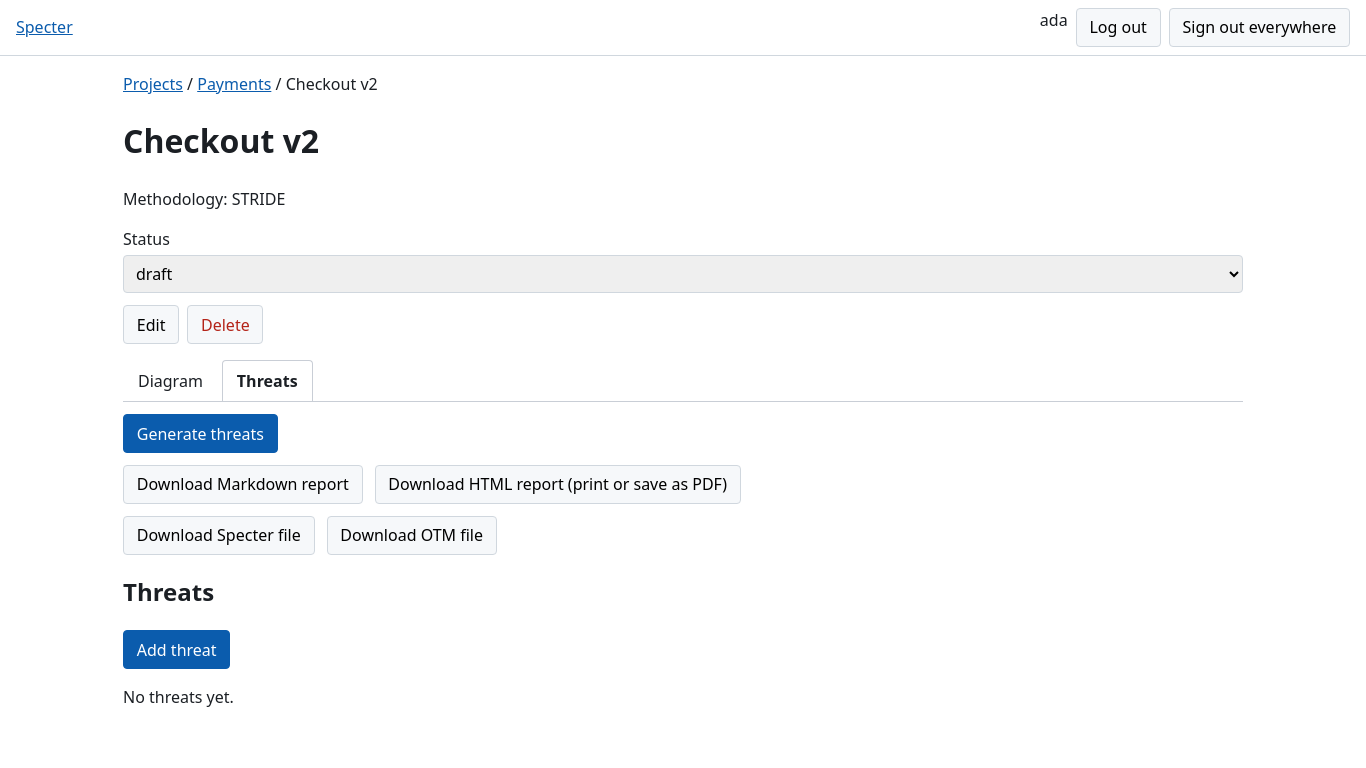
Scenario: the threat model page has two tabs (FR-001, FR-001b) › switches between the tabs through their links
Click the link "Diagram": click(170, 381) [138,370,203,392]
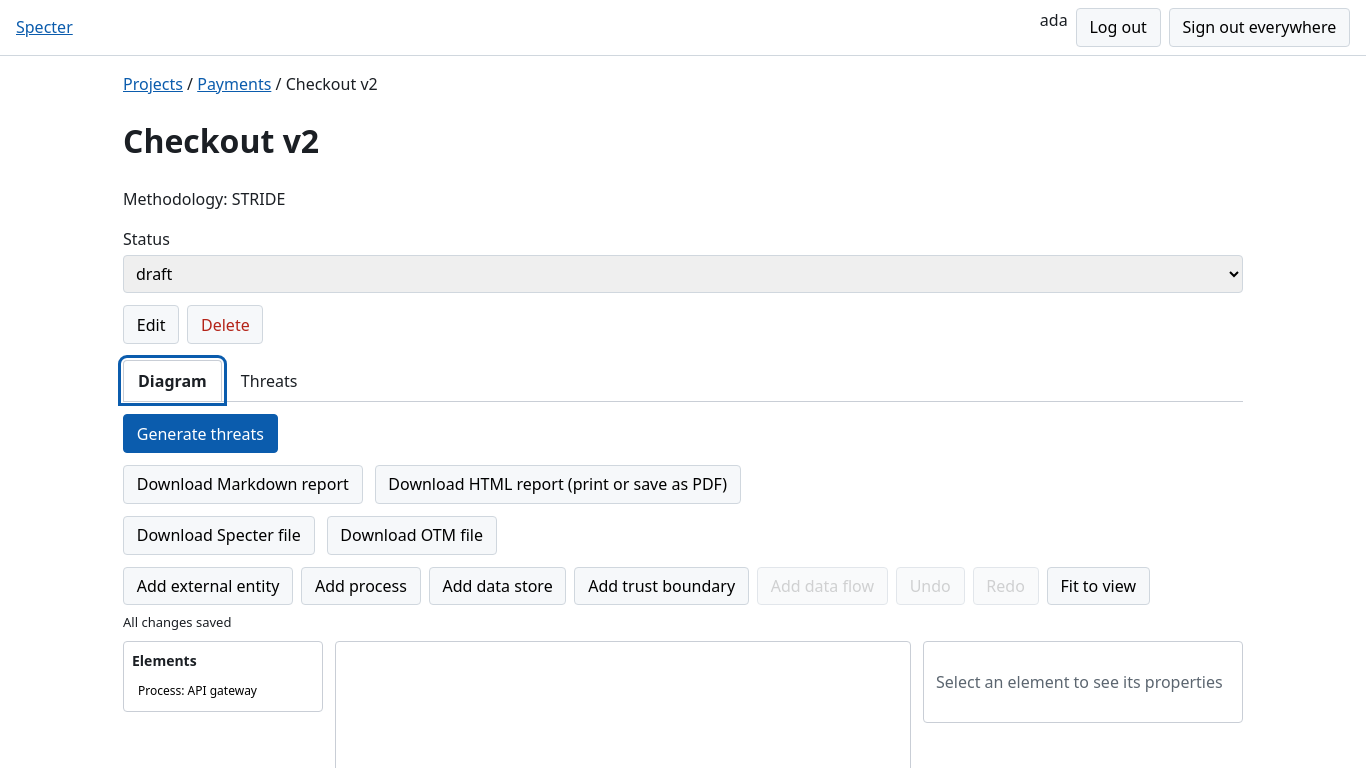
Click the link "Threats": click(269, 381) [241,370,297,392]
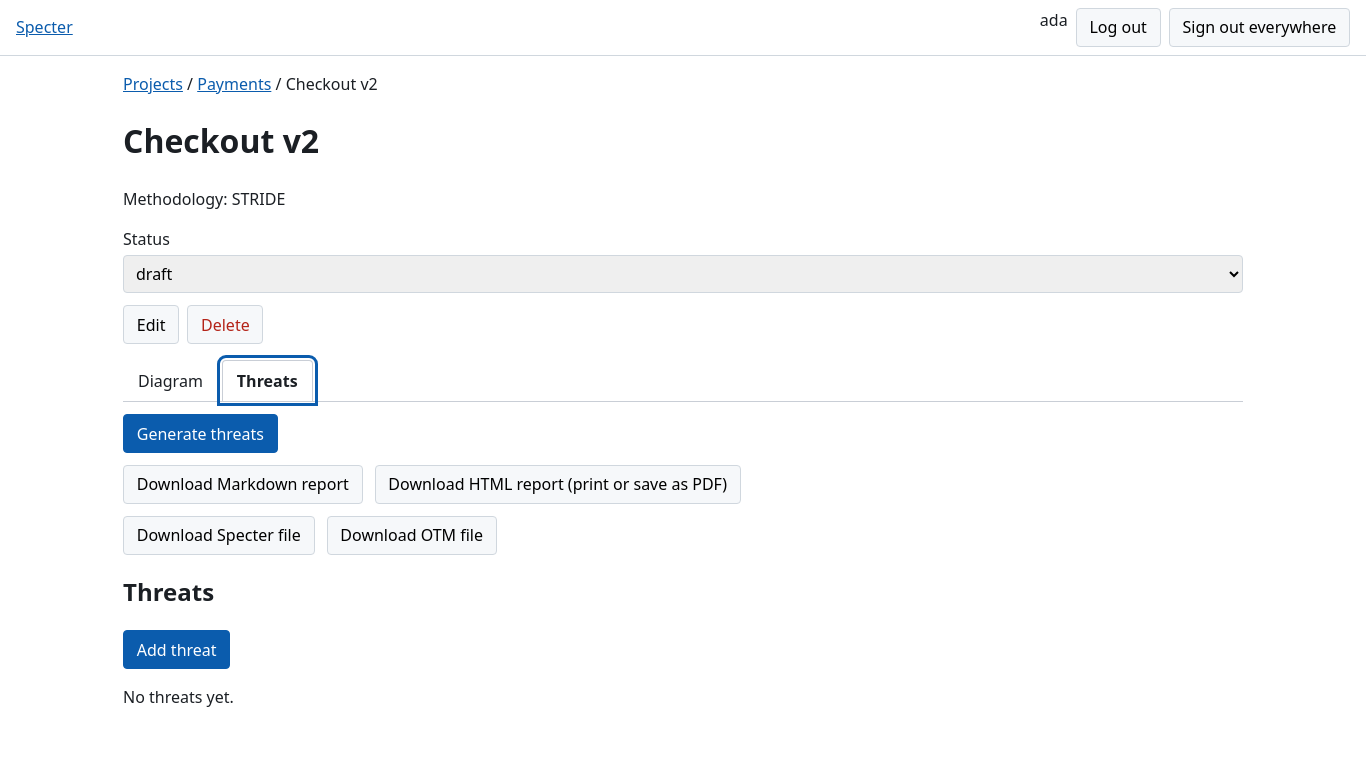
Expected: the heading "Threats" is shown, [123,576,214,608]
